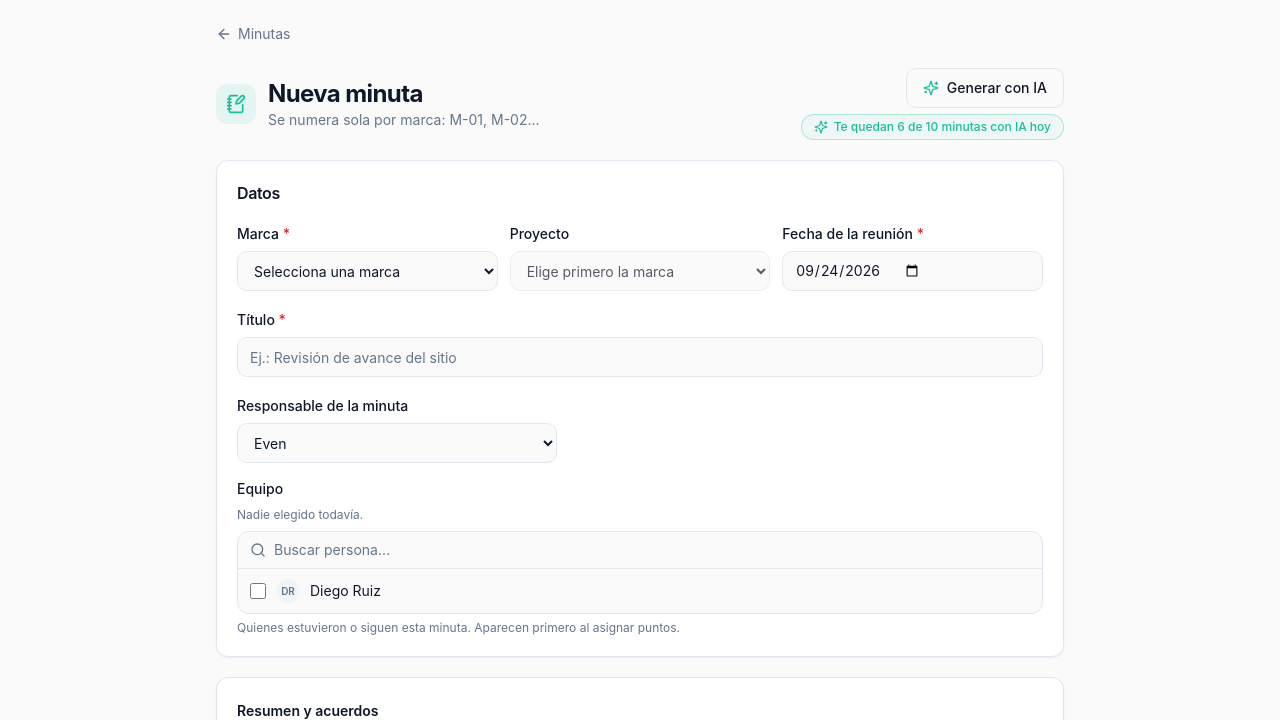
Test case: MinutaNueva › con IA › muestra junto al botón cuántas quedan hoy y lo actualiza al generar
Expected: the text "Te quedan 6 de 10 minutas con IA hoy" is shown, left=801, top=114, right=1064, bottom=140
Click the button "Generar con IA" at (985, 88), box left=906, top=68, right=1064, bottom=108
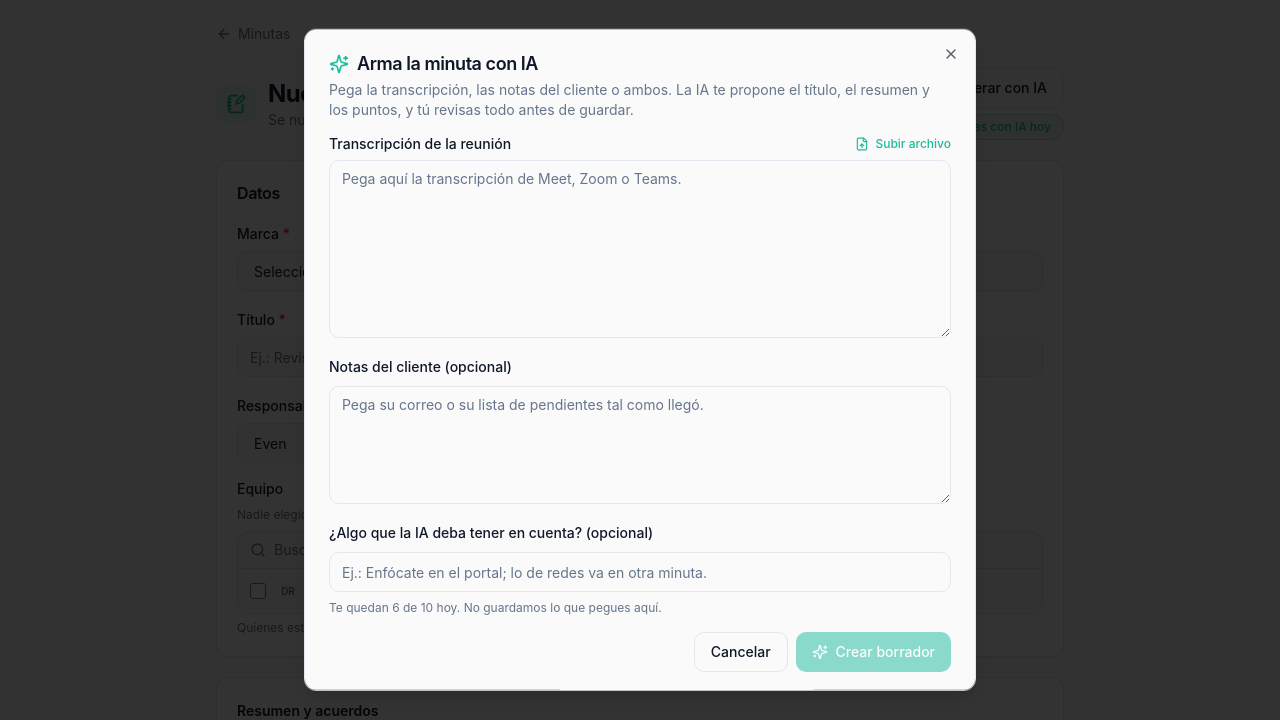
Type "Hola" into the text box labelled "Transcripción de la reunión" at (640, 249), box left=329, top=160, right=951, bottom=338
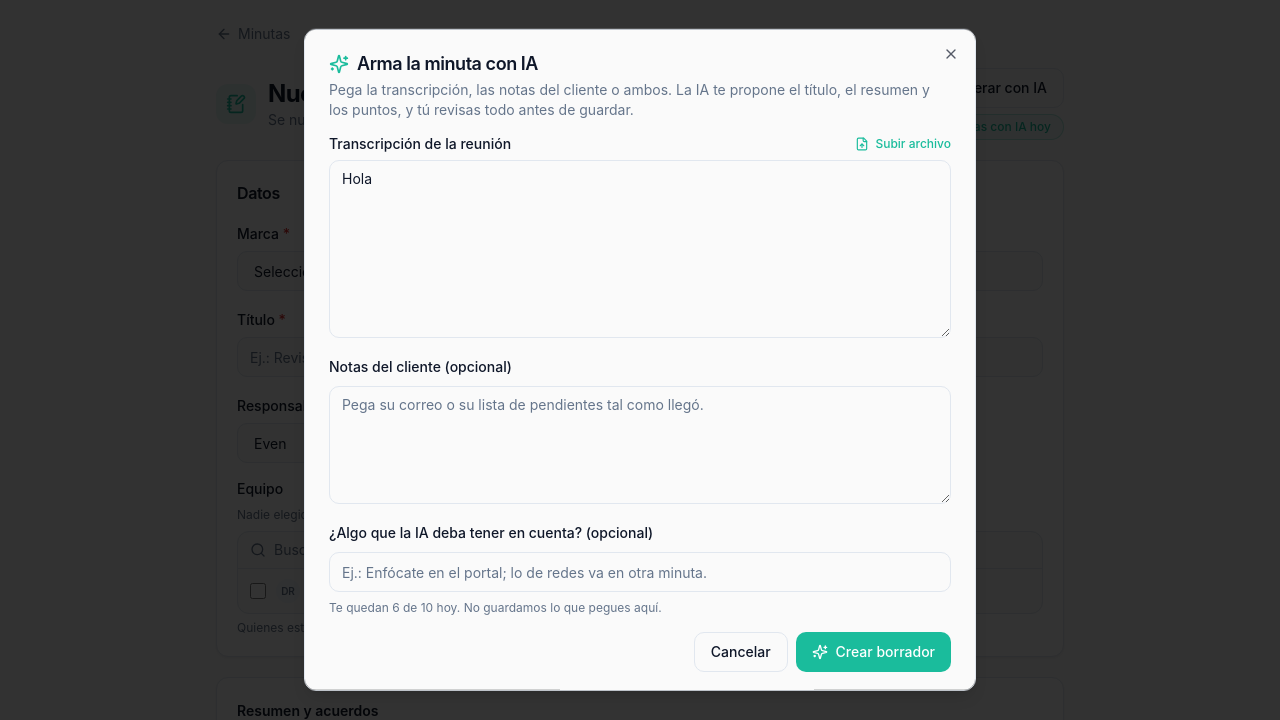
Click the button "Crear borrador" at (873, 652), box left=796, top=632, right=951, bottom=672
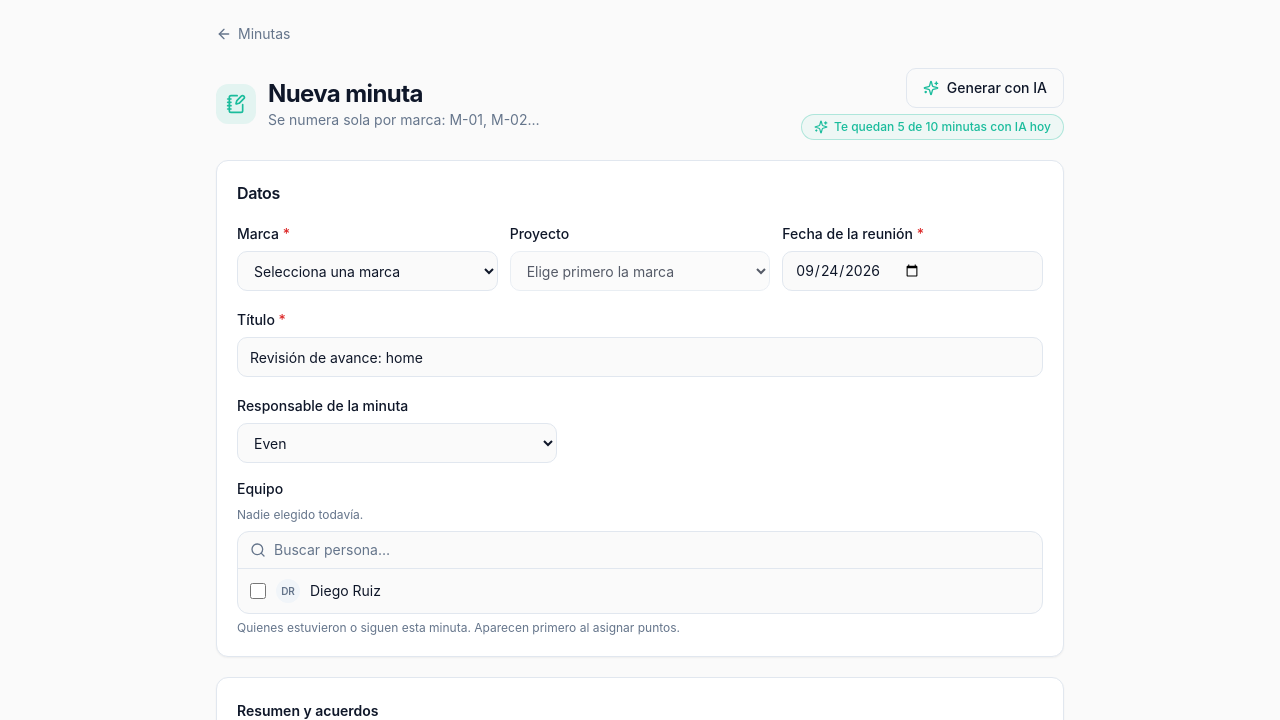
Result: the text "Te quedan 5 de 10 minutas con IA hoy" is shown at left=801, top=114, right=1064, bottom=140
